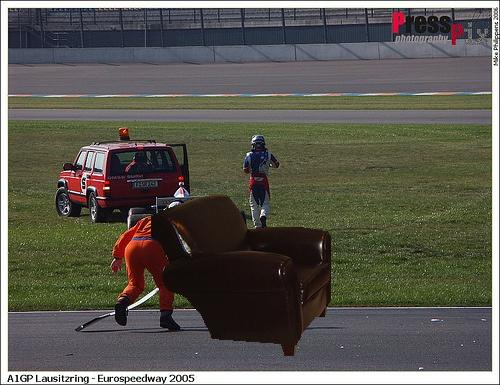tampered: (152, 195, 331, 356)
